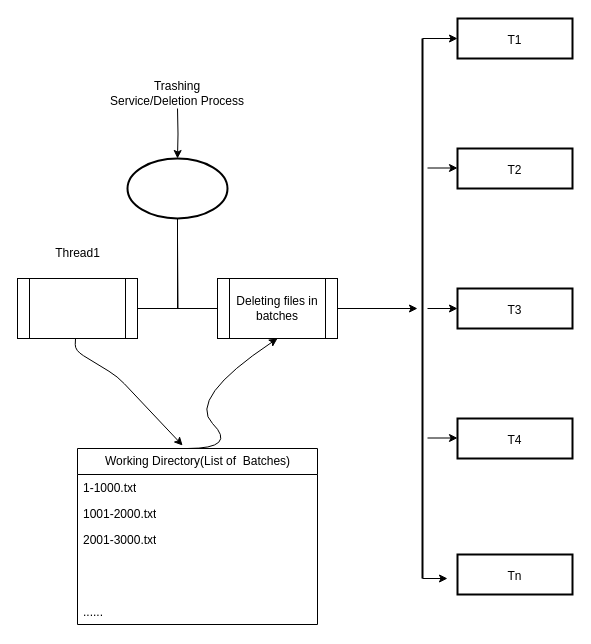
This 591x644 diagram has some shape labels left out. The shapes that lost their labels are listed below. From the top down, each one's centre as x and y in pixels, then its label:
At point 177,188: "Start".
At point 77,308: "Listing and throttling in batches".
